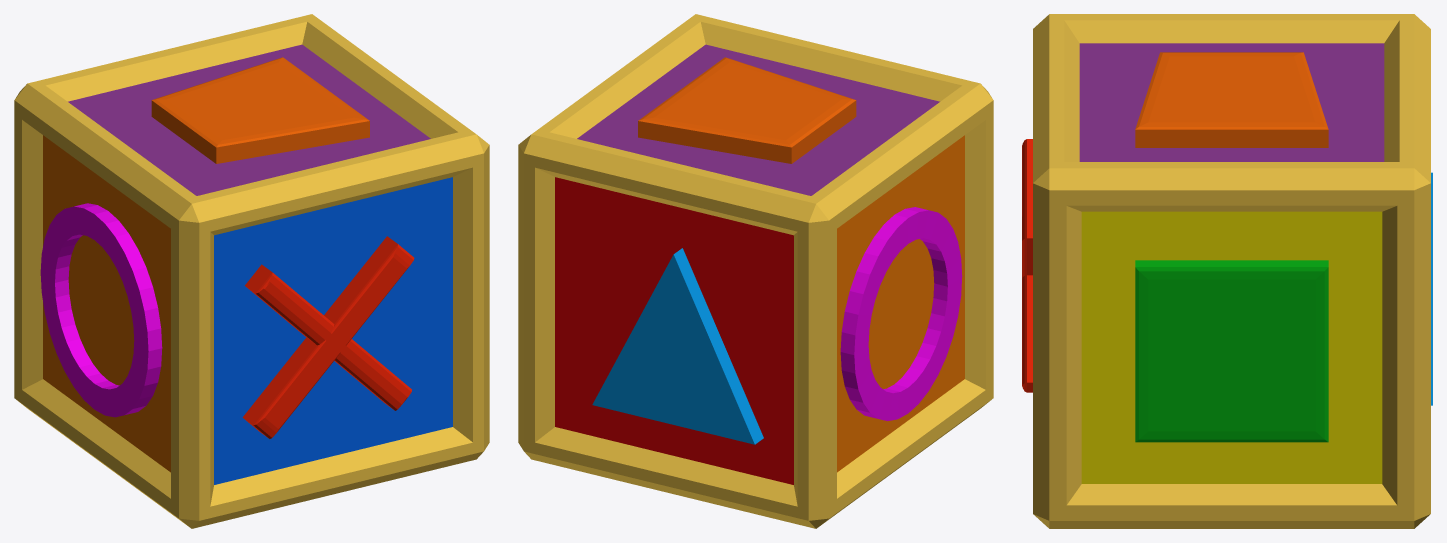
3 renders of one model, left to right at view 1: azimuth 30°, elevation 25°; view 2: azimuth 150°, elevation 25°; view 3: azimuth 270°, elevation 25°, orthographic. The views are drawn at different scales.
Visible parts, largest first — view 1: Cube, Cube.004, Cube.001, Circle; view 2: Cube, Cube.002, Cube.004, Circle; view 3: Cube, Cube.003, Cube.004, Cube.001.
Part boxes in pixels (x1,y1,x2,y2): Cube: (14,14,489,528); Cube.004: (151,57,369,163); Cube.001: (242,236,414,438); Circle: (40,203,162,417); Cube: (518,14,993,528); Cube.002: (592,248,763,444); Cube.004: (638,57,856,163); Circle: (840,207,962,421); Cube: (1033,14,1430,528); Cube.003: (1135,260,1328,442); Cube.004: (1135,52,1328,147); Cube.001: (1022,139,1032,392).
Bounding box in the file's own units: 200 × 202 × 206.
